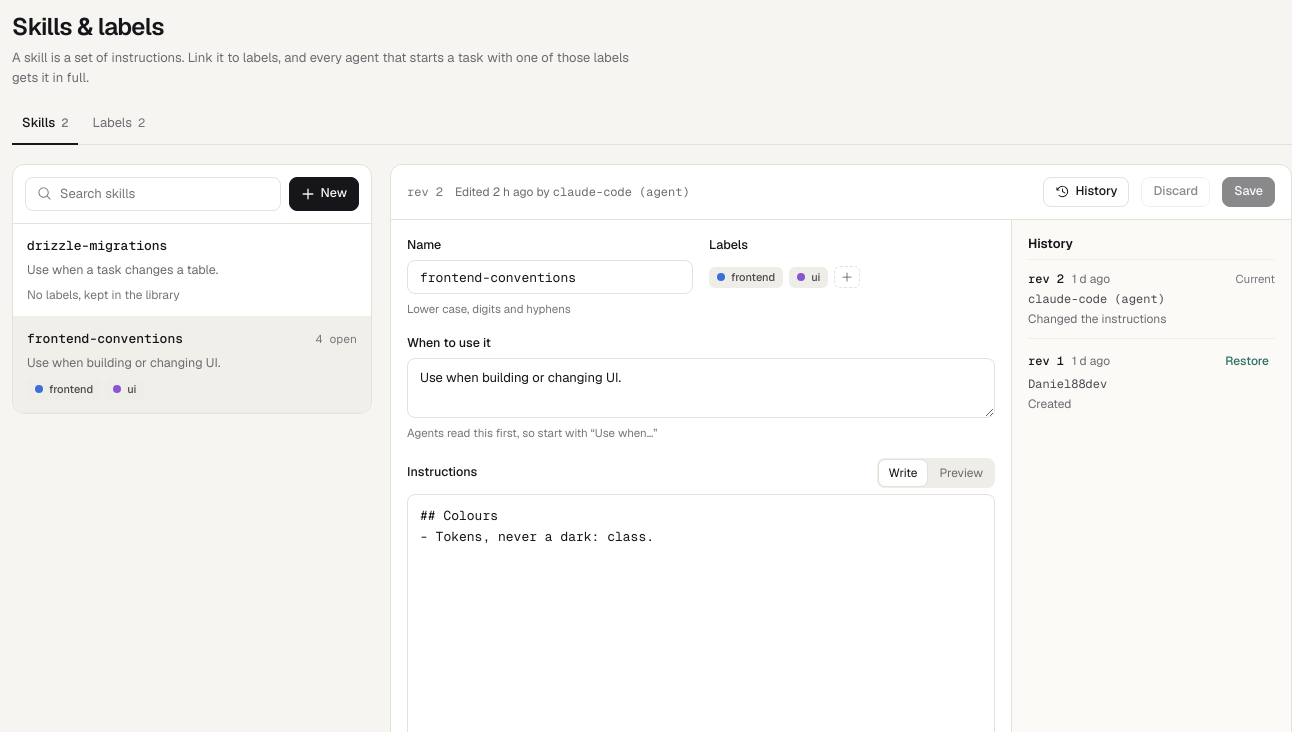
SkillsScreen › asks before restoring an older revision
The width and height of the screenshot is (1292, 732).
expect the text "Current" is shown: met, box [1236,270,1275,288]
Click the button "Restore". click: click(1247, 361)
box: [1219,349,1275,373]
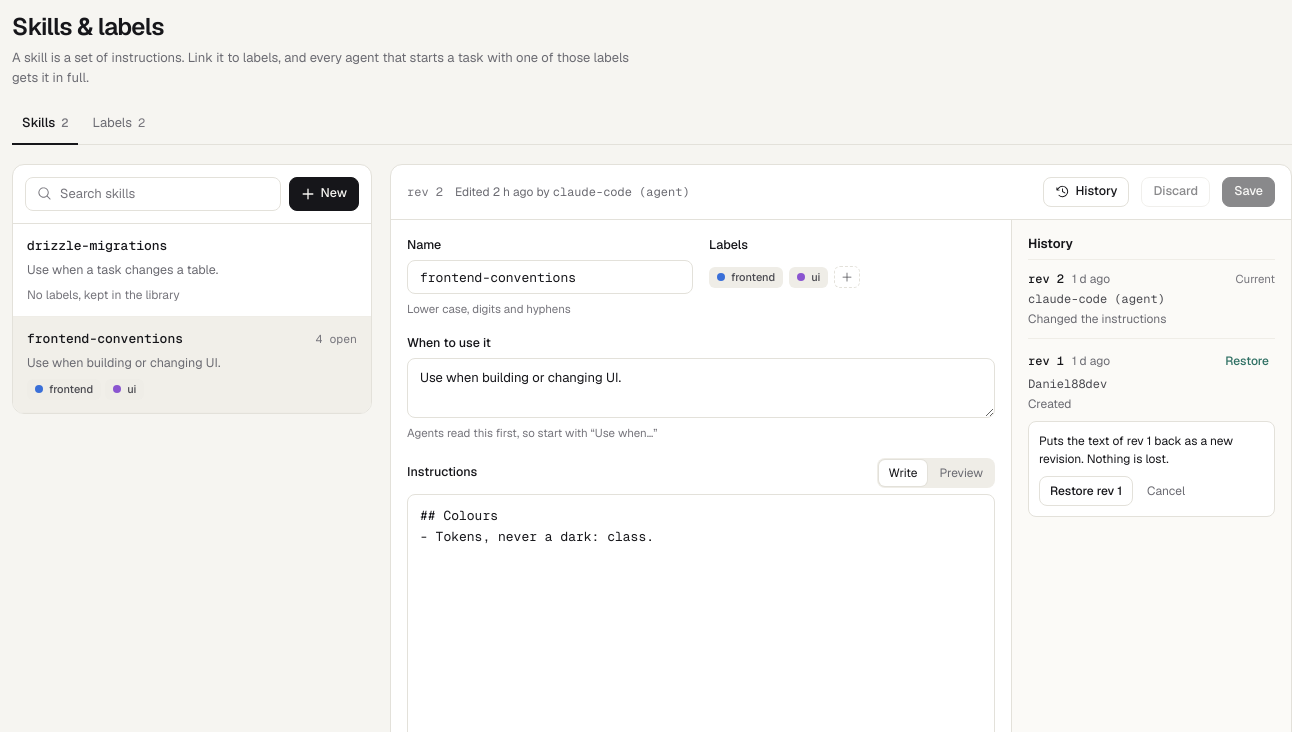
expect the button "Restore rev 1" is shown: met, box [1039,476,1133,506]
